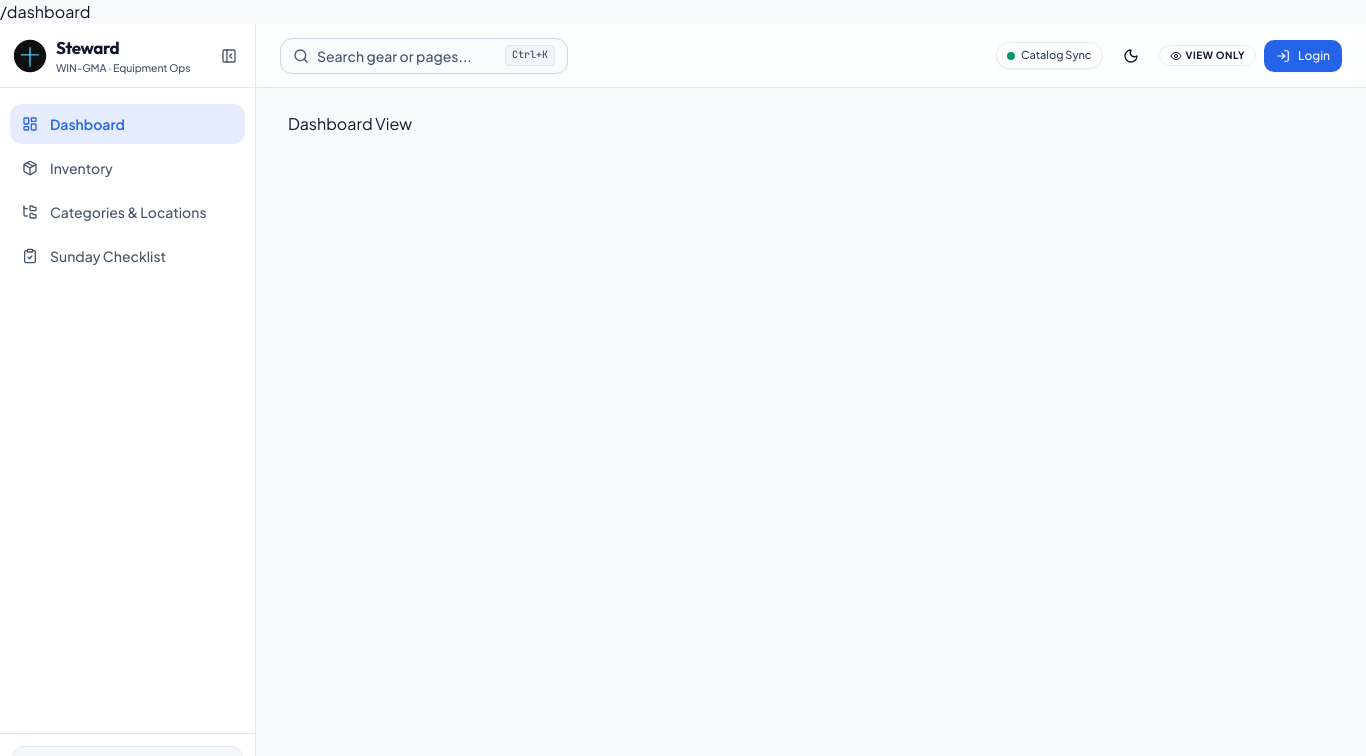
it: AppShell › opens CommandDialog via Ctrl+K, filters pages by role, and navigates to cached inventory items
Type keys "{Control>}k{/Control}"
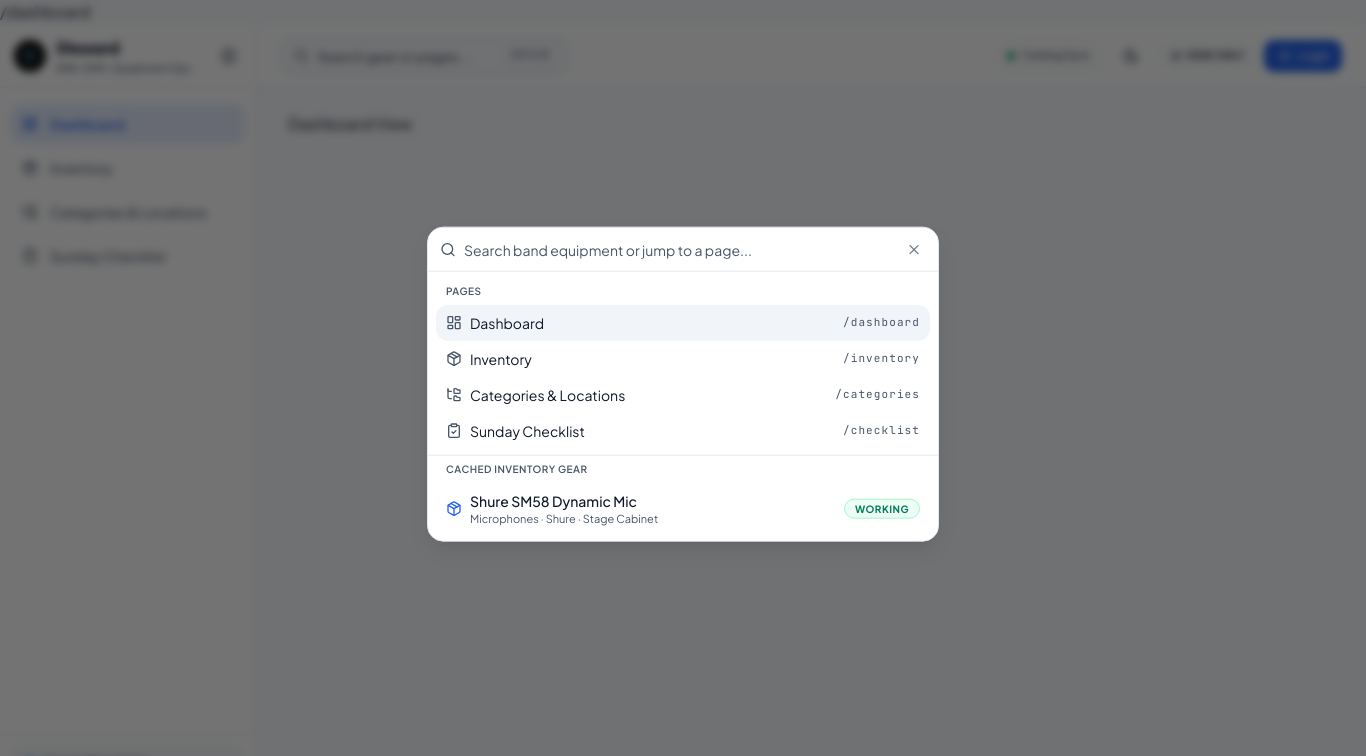
Result: the text "Dashboard" is shown at [470, 313, 544, 333]
Result: the text "Shure SM58 Dynamic Mic" is shown
Click the text "Shure SM58 Dynamic Mic" at coordinates (554, 501), box [470, 492, 637, 510]
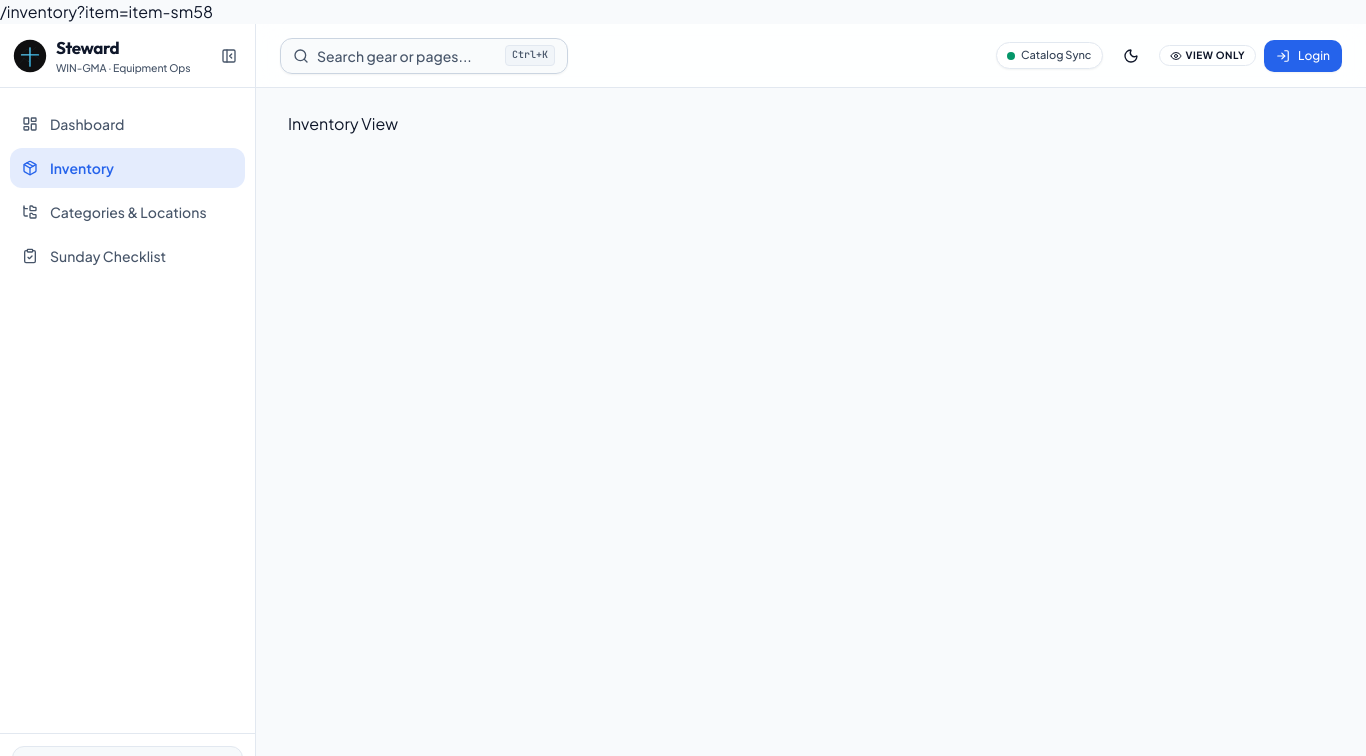
Result: the text with test id "current-url" reads "/inventory?item=item-sm58" at [0, 1, 213, 22]
Result: the dialog is gone
